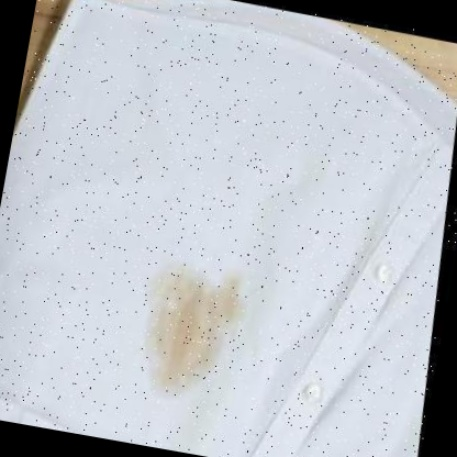coffee: (144, 276, 223, 387)
